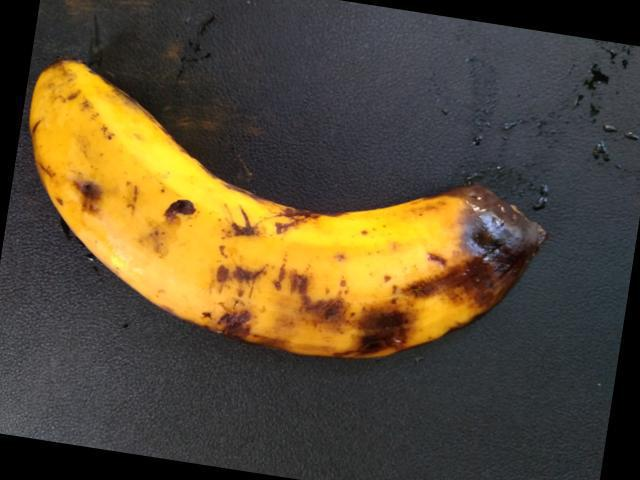overripe: (13, 46, 419, 376)
rotten: (343, 172, 563, 375)
